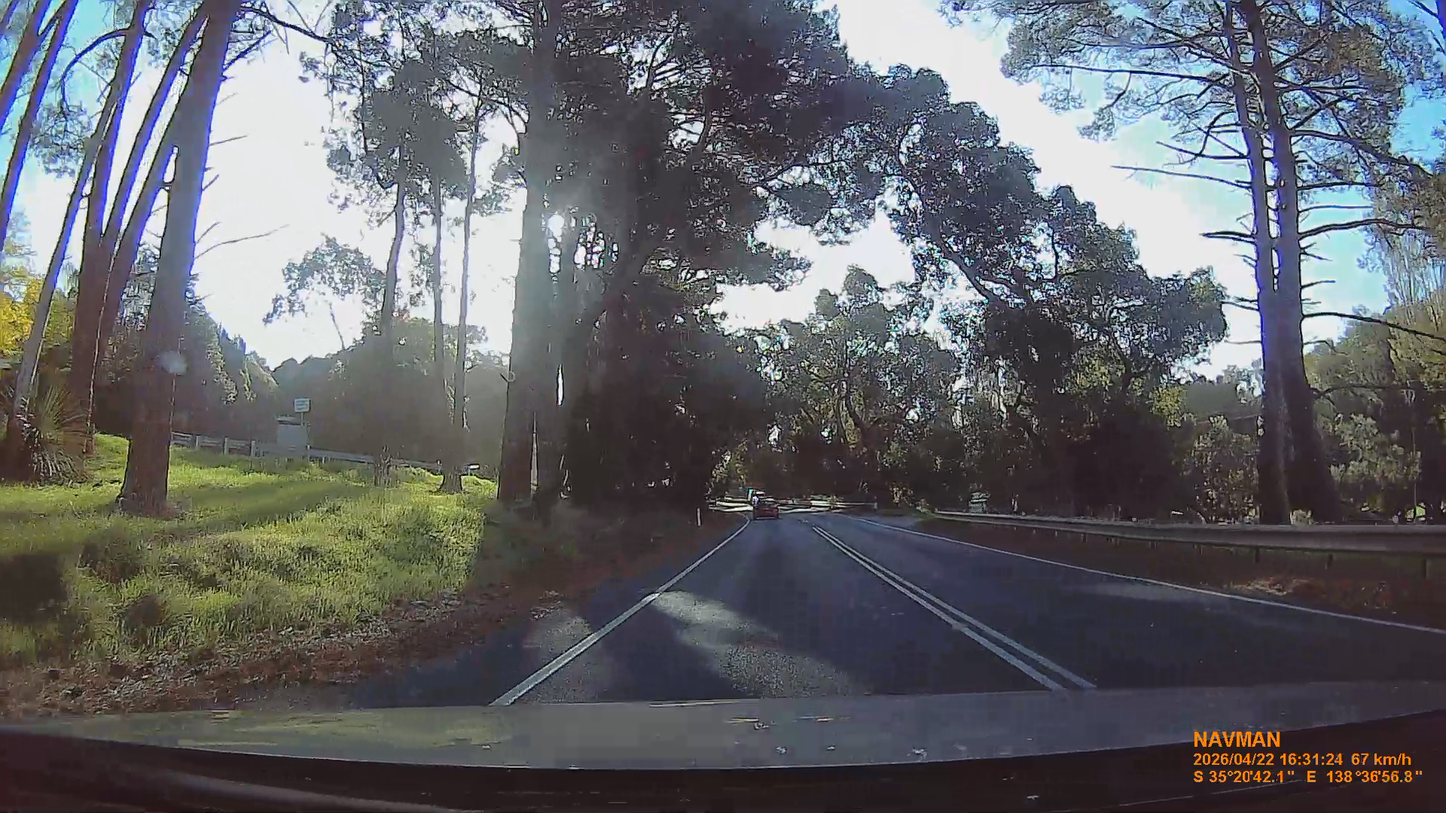road barriers: (917, 514, 1445, 574)
